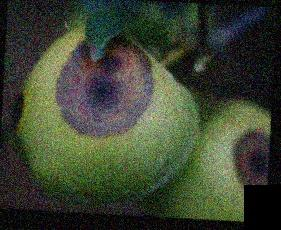rotten apple: (8, 29, 195, 207), (158, 98, 268, 220)
